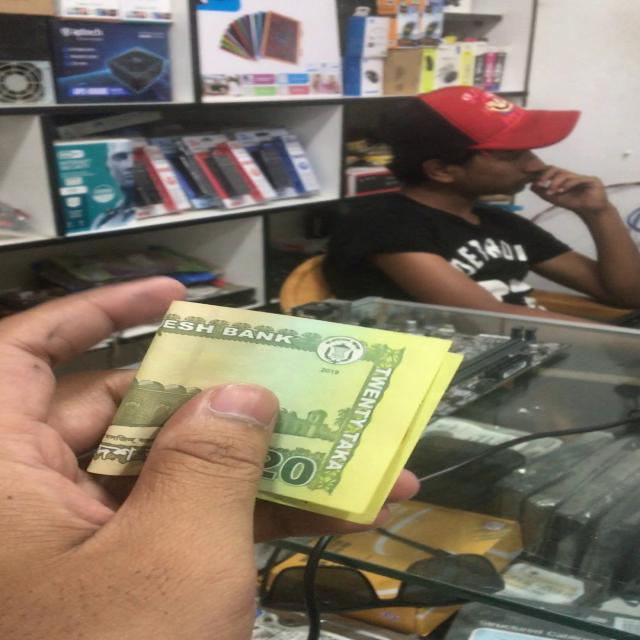Taka: (121, 302, 448, 520)
